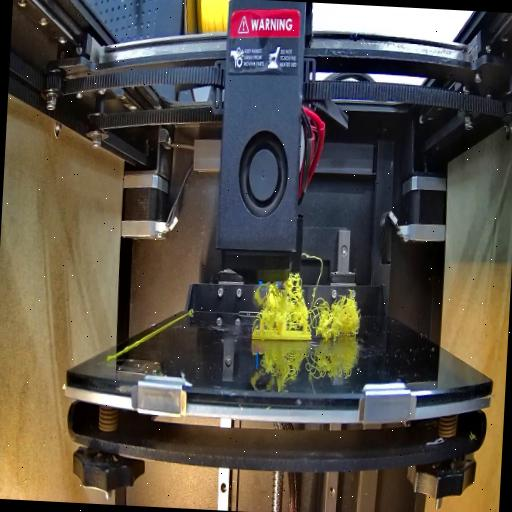spaghetti: (253, 254, 364, 340)
